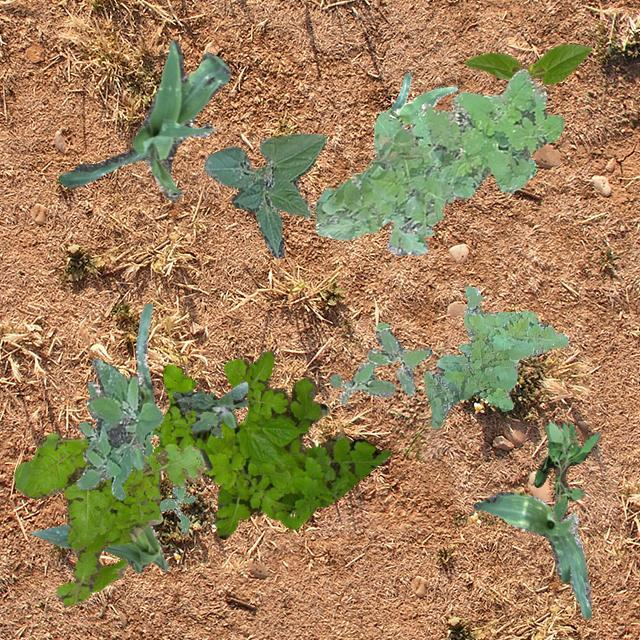crop: (58, 39, 230, 200), (202, 132, 326, 256), (472, 490, 590, 618), (87, 302, 153, 470), (373, 72, 455, 154), (28, 524, 168, 572), (464, 42, 590, 84)
weed: (314, 68, 562, 254), (150, 350, 390, 538), (13, 432, 212, 606), (422, 286, 568, 428), (76, 358, 162, 498), (328, 321, 432, 404), (532, 421, 600, 522), (172, 379, 246, 436), (158, 483, 194, 532)
